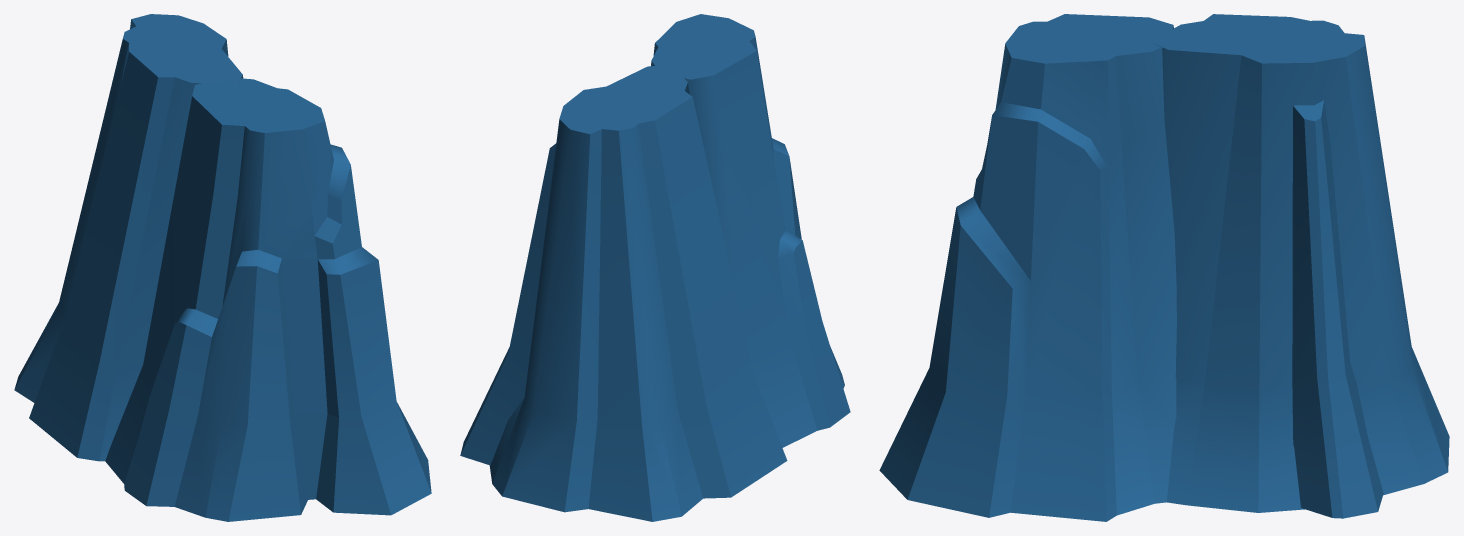
Rendered from mdl_iceCliff04_2.fbx.
3 renders of one model, left to right at view 1: azimuth 30°, elevation 25°; view 2: azimuth 150°, elevation 25°; view 3: azimuth 270°, elevation 25°, orthographic. The views are drawn at different scales.
Parts seen in each view (by area): view 1: mdl_iceCliff04_3; view 2: mdl_iceCliff04_3; view 3: mdl_iceCliff04_3.
Boxes of the visible parts, x1=… form: mdl_iceCliff04_3: x1=14, y1=14, x2=431, y2=521; mdl_iceCliff04_3: x1=460, y1=14, x2=850, y2=521; mdl_iceCliff04_3: x1=879, y1=14, x2=1449, y2=521.
Bounding box in the file's own units: 247 × 312 × 395.
1 material, 1 textured.
